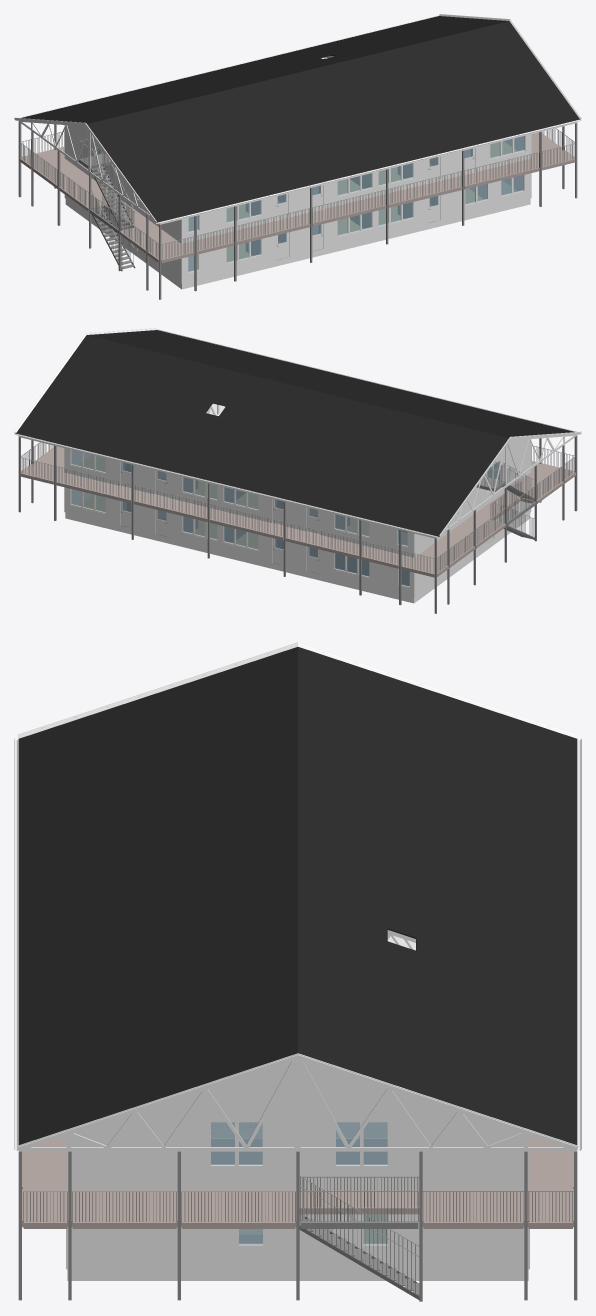
Rendered from Project3.glb.
3 views of the same model, one above another, from view 1: azimuth 30°, elevation 25°; view 2: azimuth 150°, elevation 25°; view 3: azimuth 270°, elevation 25° (orthographic). The views are drawn at different scales.
Visible parts, largest first — view 1: empty_1672, empty_1667, empty_1668, empty_1673, empty_1671, empty_1675; view 2: empty_1672, empty_1667, empty_1668, empty_1671, empty_1673, empty_31; view 3: empty_1672, empty_1667, empty_1668, empty_1673, empty_3, empty_1217, empty_30, empty_29, empty_2891, empty_1216, empty_2890.
Boxes of the visible parts, x1,y1,x2,y2 form: empty_1672: (21, 16, 580, 222); empty_1667: (14, 14, 581, 289); empty_1668: (20, 132, 575, 263); empty_1673: (79, 137, 133, 267); empty_1671: (227, 141, 516, 261); empty_1675: (90, 164, 135, 271); empty_1672: (15, 330, 574, 536); empty_1667: (14, 328, 581, 603); empty_1668: (20, 446, 575, 577); empty_1671: (79, 455, 368, 548); empty_1673: (481, 461, 534, 536); empty_31: (310, 547, 409, 585); empty_1672: (18, 647, 577, 1144); empty_1667: (14, 642, 581, 1280); empty_1668: (22, 1136, 573, 1228); empty_1673: (299, 1176, 419, 1293); empty_3: (300, 1221, 418, 1228); empty_1217: (364, 1122, 387, 1164); empty_30: (211, 1139, 262, 1163); empty_29: (336, 1139, 387, 1163); empty_2891: (364, 1122, 387, 1164); empty_1216: (211, 1122, 234, 1164); empty_2890: (211, 1122, 234, 1164).
Size of the model in its own units: 31.94 by 9.56 by 18.62.
